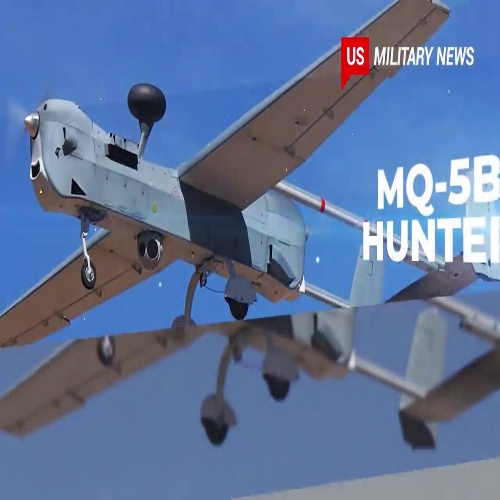uav: (4, 6, 468, 294)
